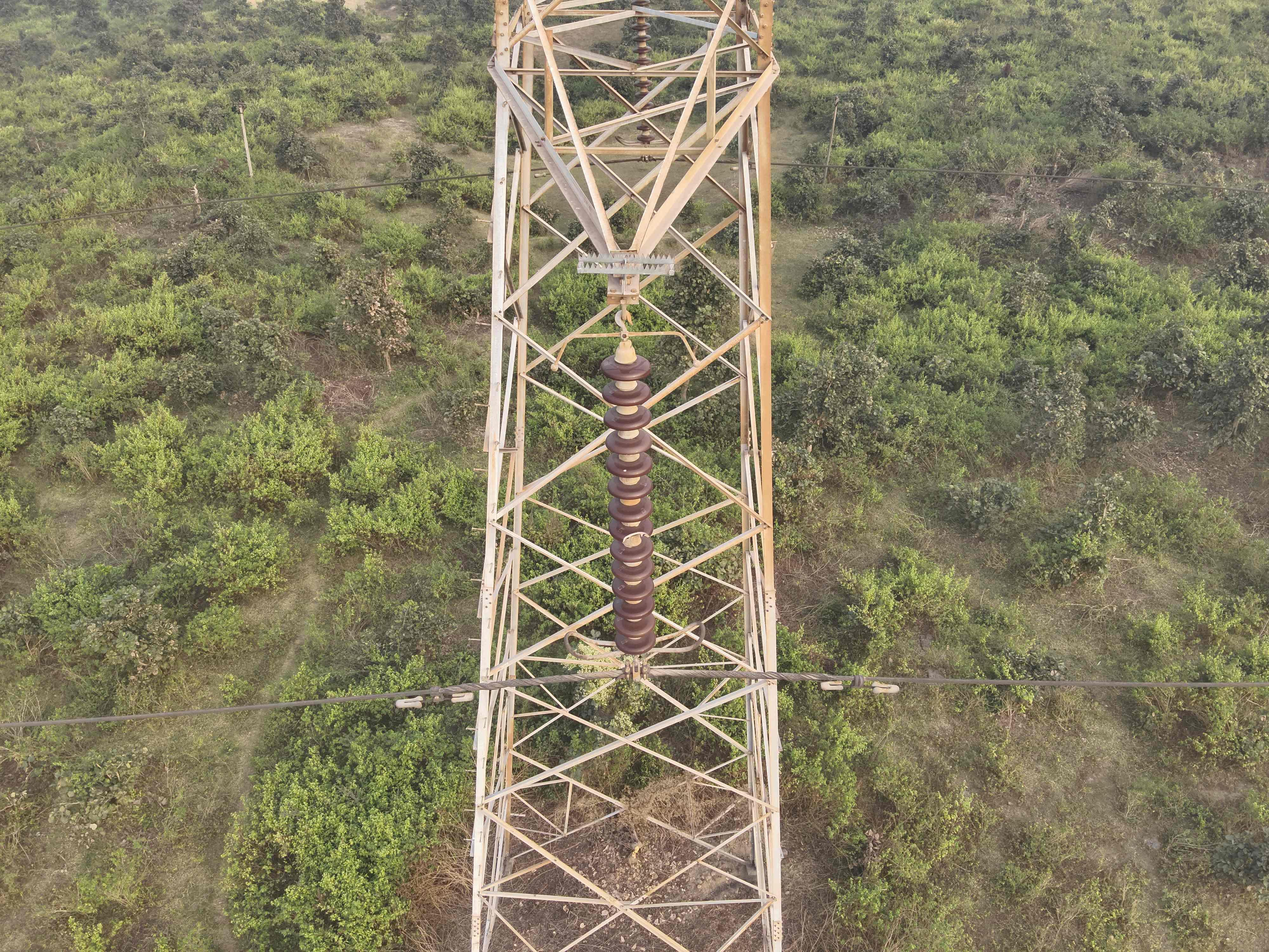broken_insulator: (607, 521, 655, 543)
